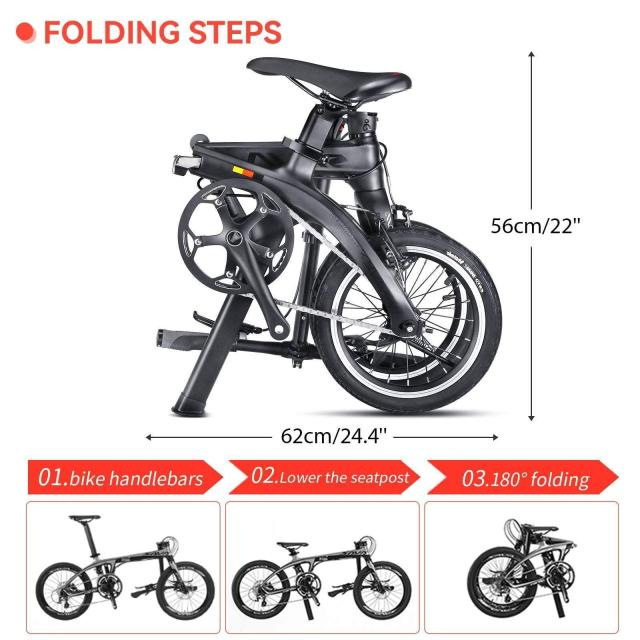folding-bike: (160, 54, 507, 417), (33, 515, 215, 622), (231, 532, 415, 622), (460, 515, 579, 620)
